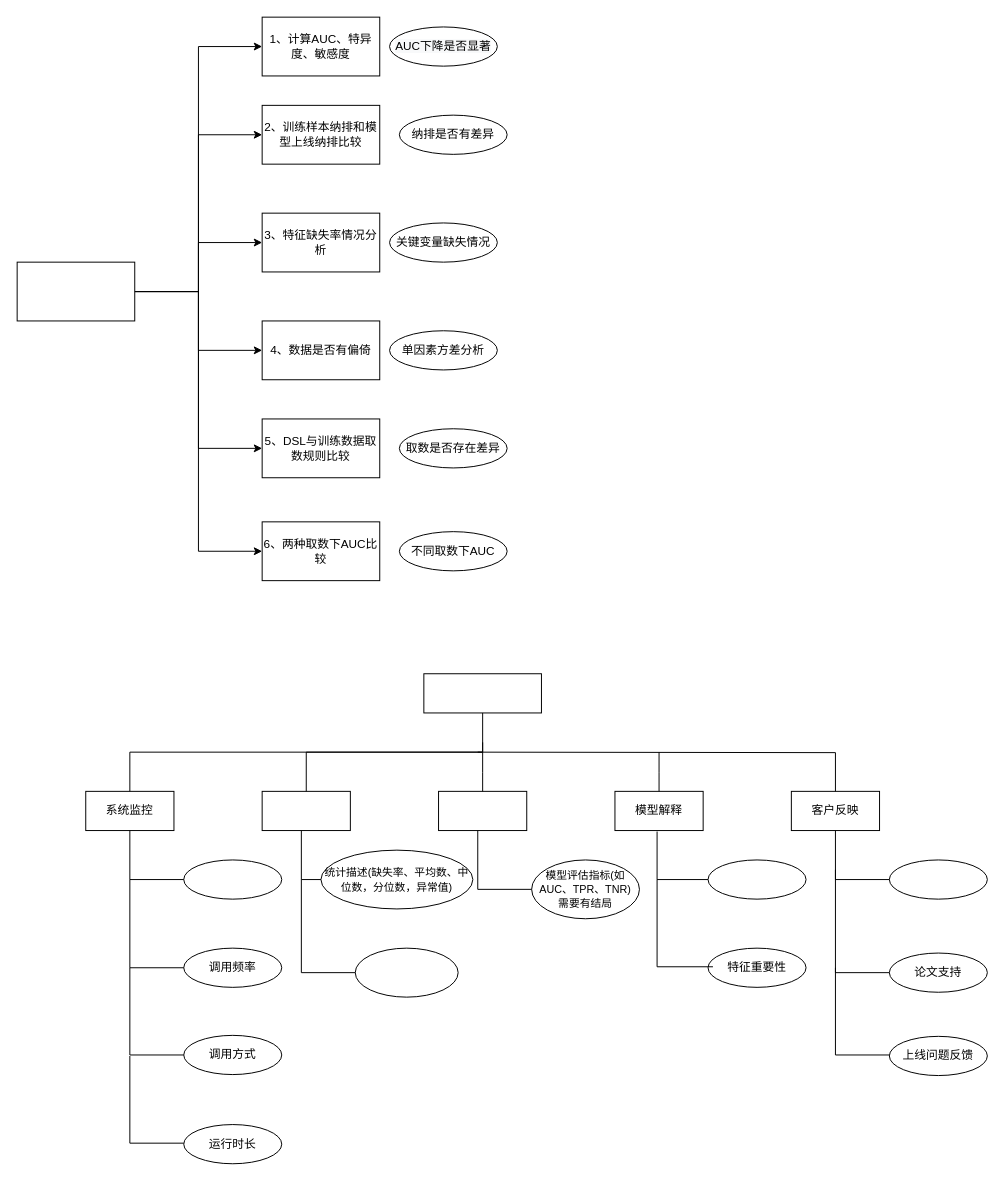
The diagram is 1005 pixels wide and 1181 high, and some of its shapes have lost their labels. Here are the shapes that lost their labels. From the top down, the box of each, then its label:
(16, 261, 135, 321): 模型上线后AUC下降
(423, 673, 541, 713): AI CDS运营问题归纳
(261, 790, 350, 831): 数据监控
(438, 790, 527, 831): 模型性能
(183, 859, 282, 899): 是否正常运行
(707, 859, 806, 899): 特征解释与临床一致性
(888, 859, 987, 899): 答疑咨询
(354, 947, 458, 997): DSL取数与SQL取数一致性
